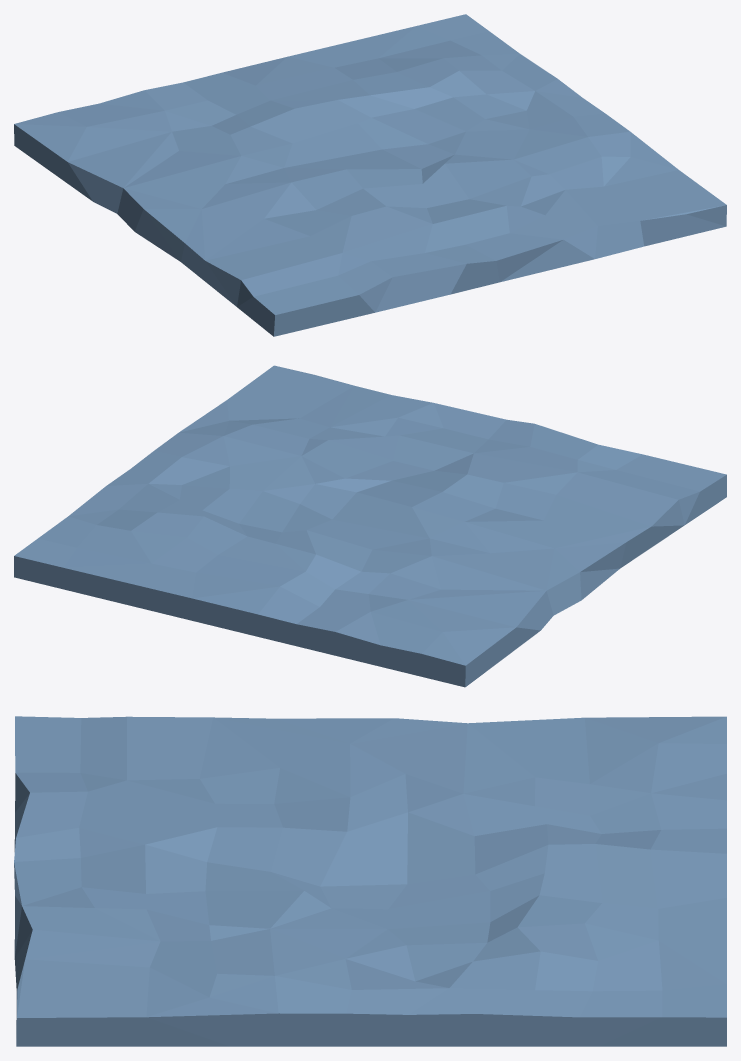
File: Sea.fbx
The picture shows the model from 3 angles, top to bottom: view 1: azimuth 30°, elevation 25°; view 2: azimuth 150°, elevation 25°; view 3: azimuth 270°, elevation 25°; orthographic projection. The views are drawn at different scales.
Visible parts, largest first — view 1: Sea; view 2: Sea; view 3: Sea.
Part boxes in pixels (bbox=[...]): Sea: bbox=[14, 14, 726, 336]; Sea: bbox=[14, 365, 726, 687]; Sea: bbox=[14, 716, 726, 1046].
Size of the model in its own units: 40036 by 2807 by 40043.
